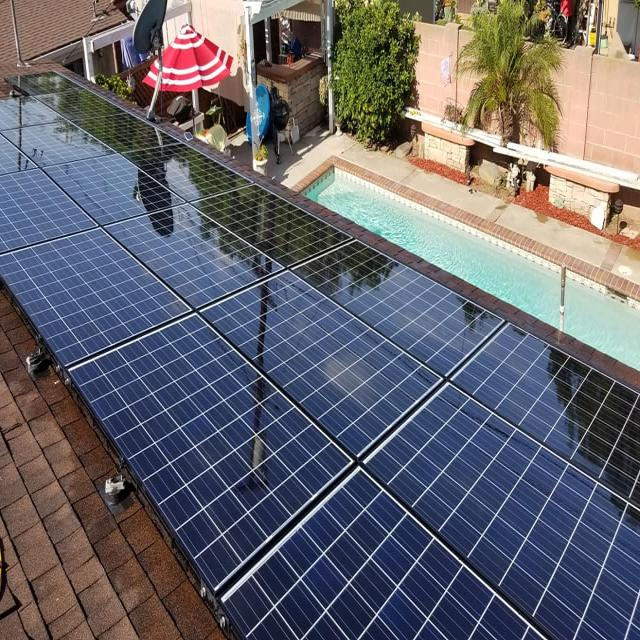clean-solar-panel: (0, 72, 640, 637)
